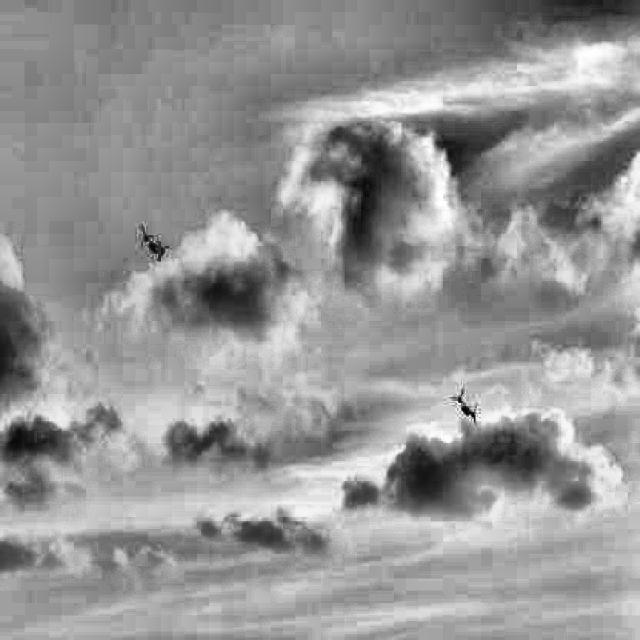V22: (140, 224, 169, 262), (452, 388, 478, 424)
